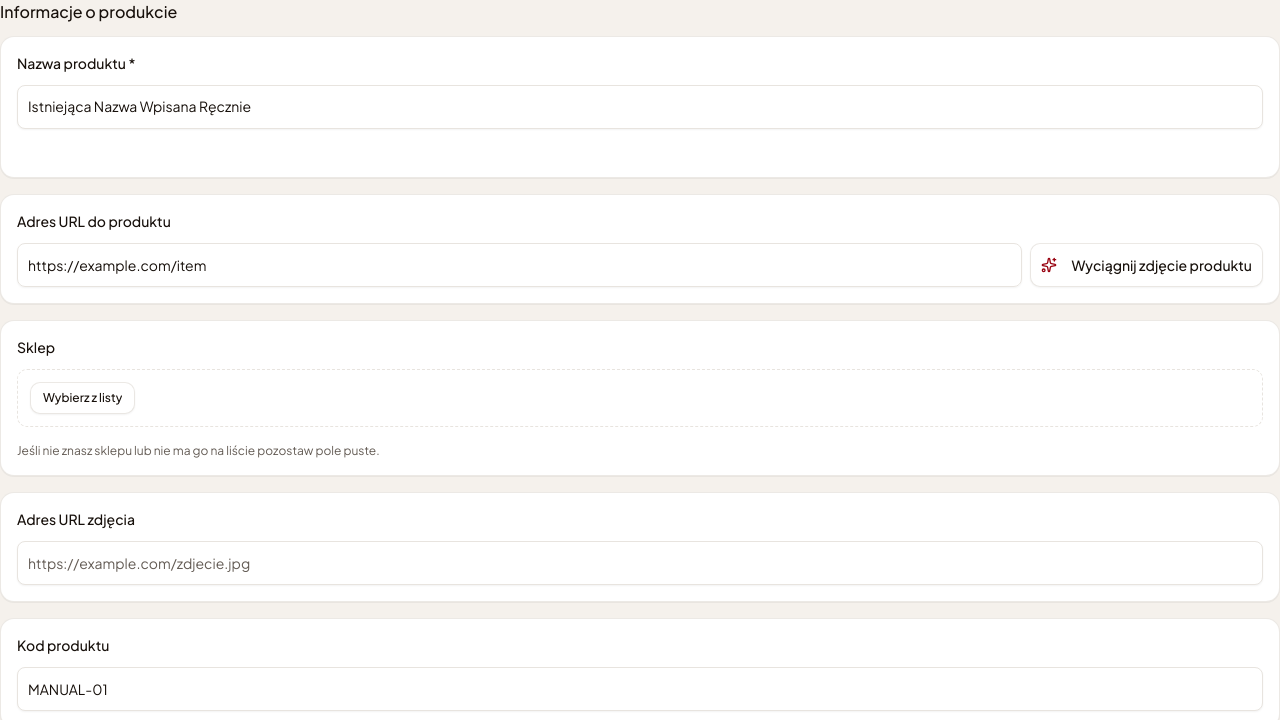
Test case: app/opinie/dodaj/_components/ProductFields › does not overwrite already filled name and code on successful scrape
This screenshot has width=1280, height=720.
Click the button "Wyciągnij zdjęcie produktu" at (1147, 265), box [1030,243,1263,287]
(page scrolled)
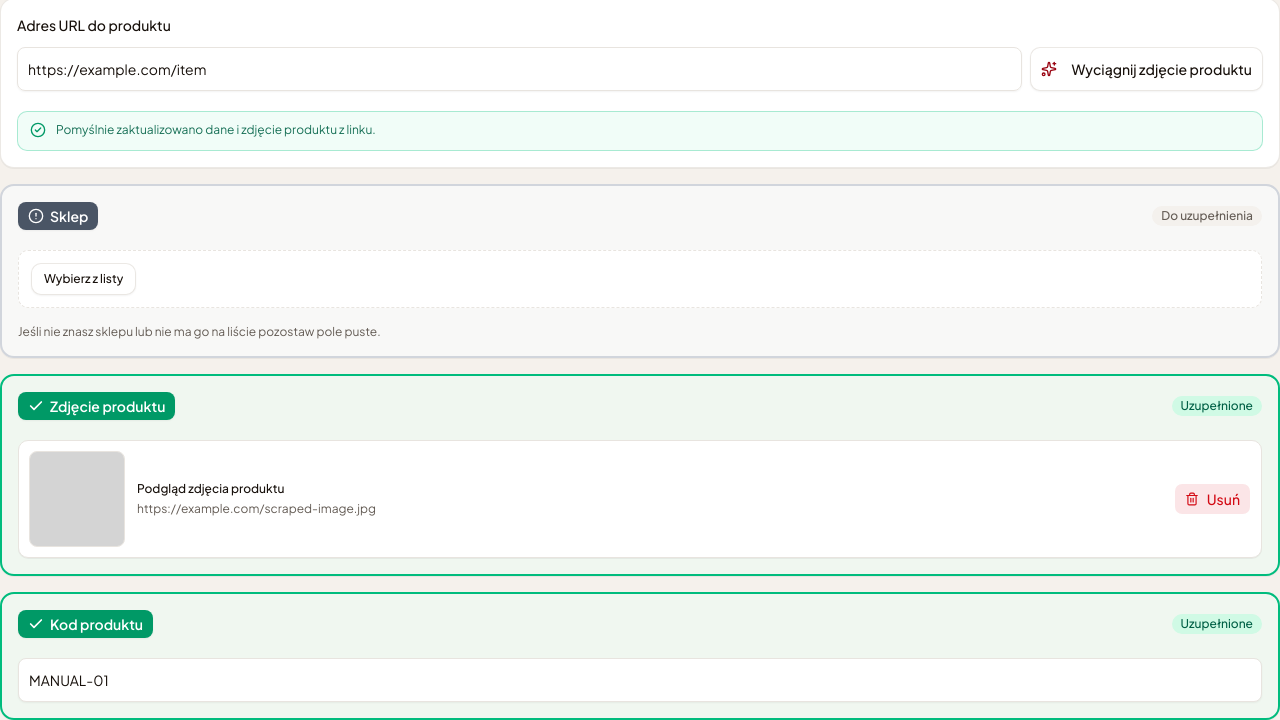
Expected: the field labelled "Kod produktu" holds "MANUAL-01", [18,658,1262,702]
Now the text "Podgląd zdjęcia produktu" is shown, box [137,480,284,496]
